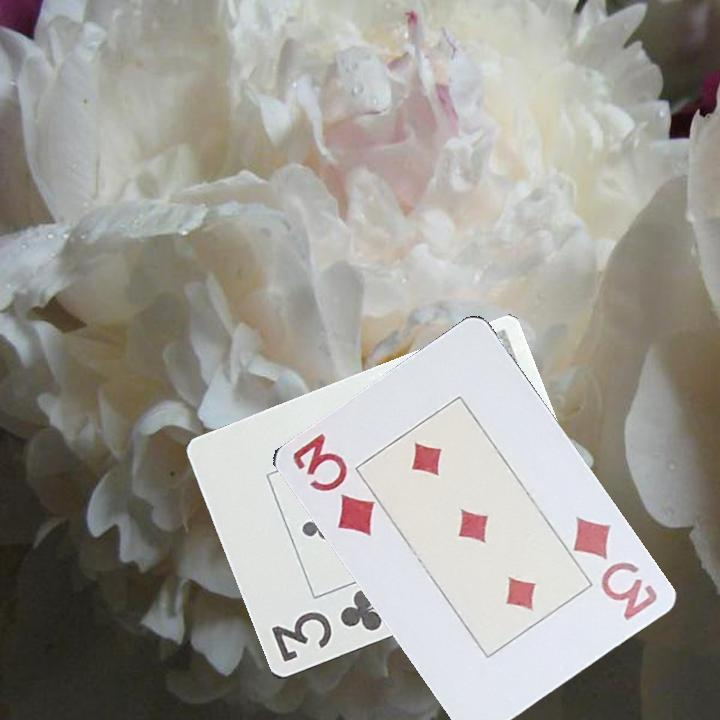3c: (267, 585, 392, 666)
3d: (568, 512, 660, 624), (288, 429, 377, 540)
